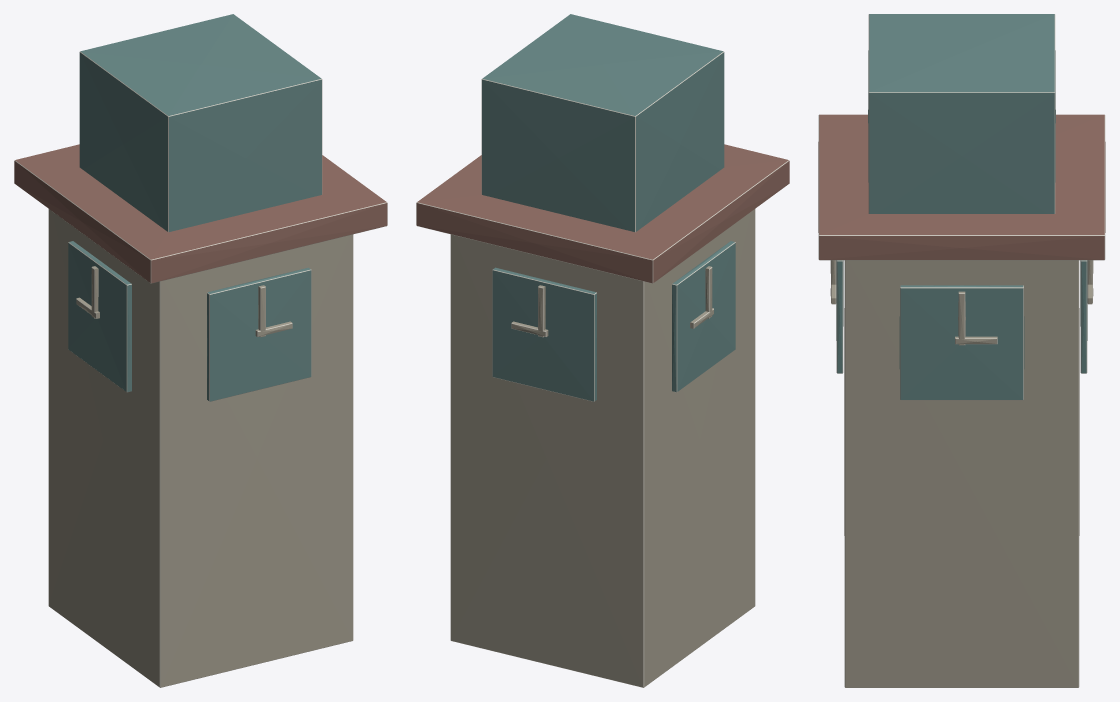
Rendered from prop_clock_tower.glb.
The picture shows the model from 3 angles, left to right: view 1: azimuth 30°, elevation 25°; view 2: azimuth 150°, elevation 25°; view 3: azimuth 270°, elevation 25°; orthographic projection. The views are drawn at different scales.
Parts seen in each view (by area): view 1: scenery_cream, scenery_teal, scenery_coral; view 2: scenery_cream, scenery_teal, scenery_coral; view 3: scenery_cream, scenery_teal, scenery_coral.
Boxes of the visible parts, x1=… form: scenery_cream: x1=48, y1=209, x2=353, y2=687; scenery_teal: x1=68, y1=14, x2=322, y2=401; scenery_coral: x1=14, y1=144, x2=387, y2=283; scenery_cream: x1=450, y1=209, x2=755, y2=687; scenery_teal: x1=481, y1=14, x2=735, y2=401; scenery_coral: x1=416, y1=144, x2=789, y2=283; scenery_cream: x1=830, y1=260, x2=1093, y2=687; scenery_teal: x1=836, y1=14, x2=1087, y2=400; scenery_coral: x1=818, y1=114, x2=1105, y2=260.
Size of the model in its own units: 6 by 13.5 by 6.
